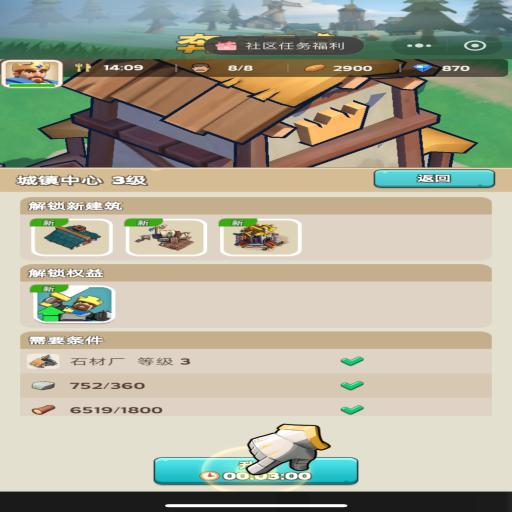newcomer_hand: (246, 423, 330, 474)
